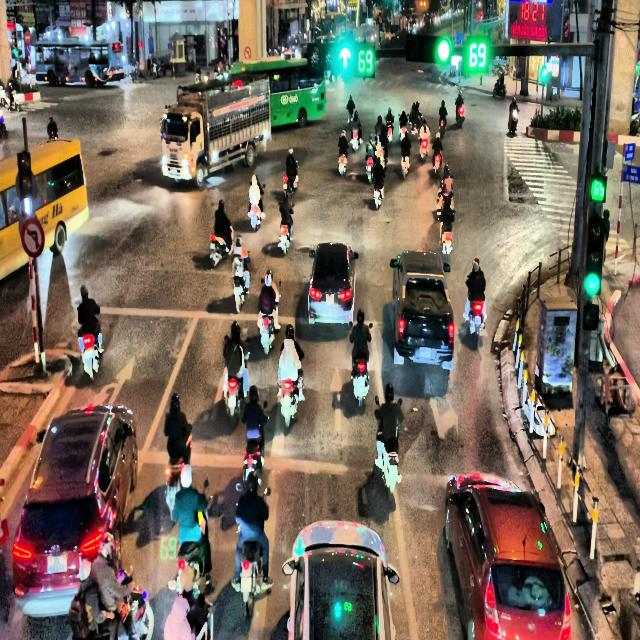lisence_plate: (334, 38, 376, 80), (46, 551, 68, 574), (419, 347, 432, 360), (324, 295, 336, 309)
